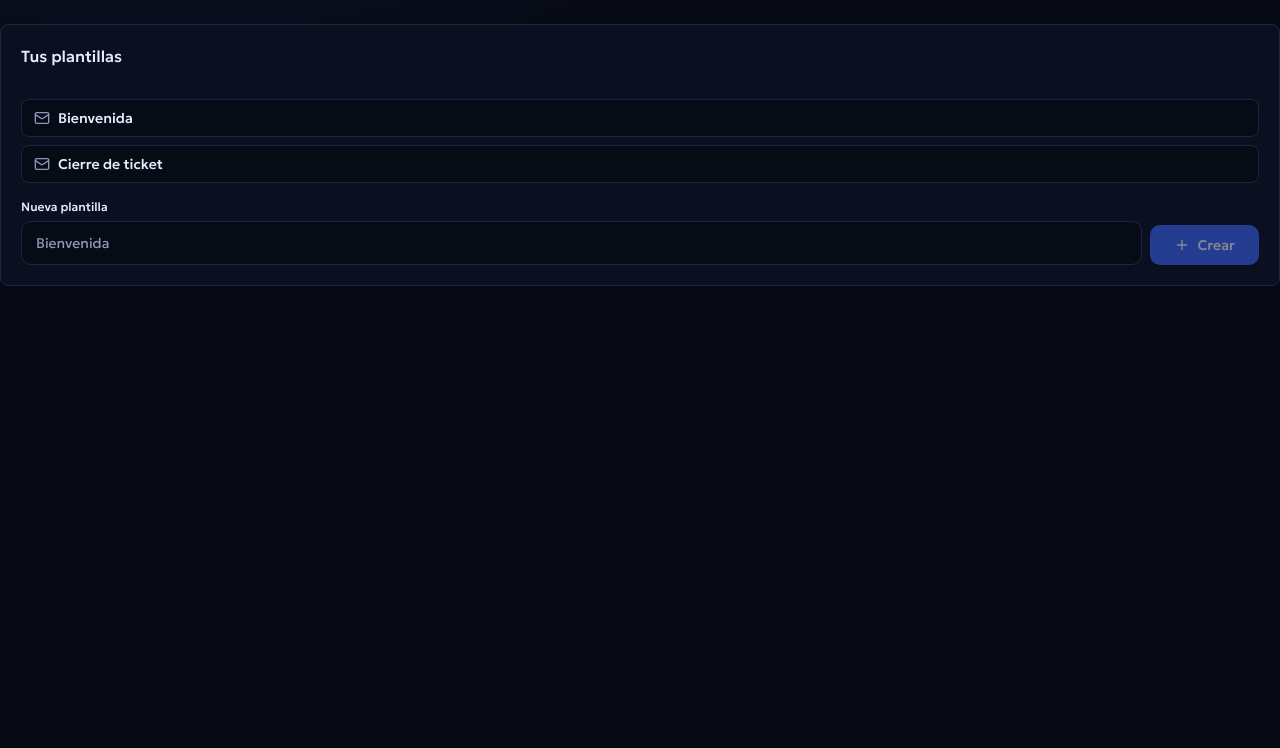
Test: Plantillas de correo › sin casillas de correo explica por qué no se puede probar
What coordinates should you click on to do the following:
click the button "Bienvenida"
I would click on:
 (95, 118)
Its box is [21,99,1259,137].
(page scrolled)
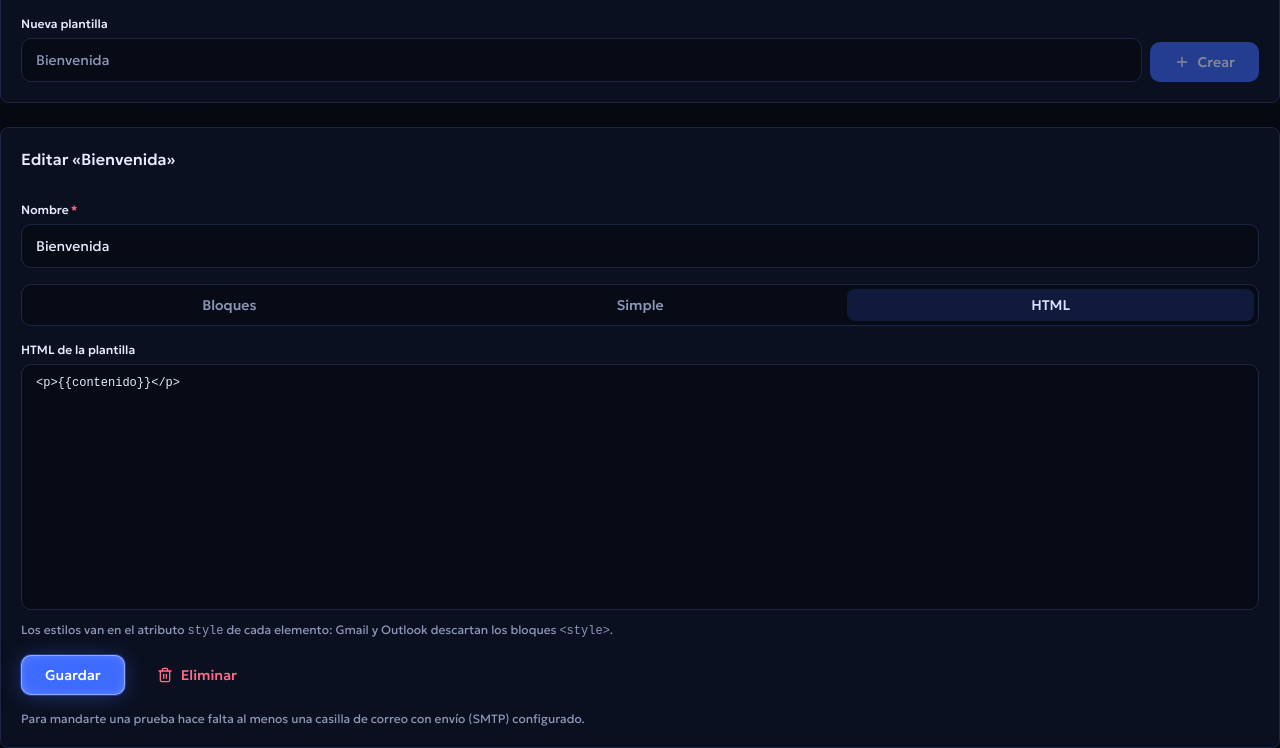
Expected: the text "hace falta al menos una casilla" is shown, [21,711,585,726]
